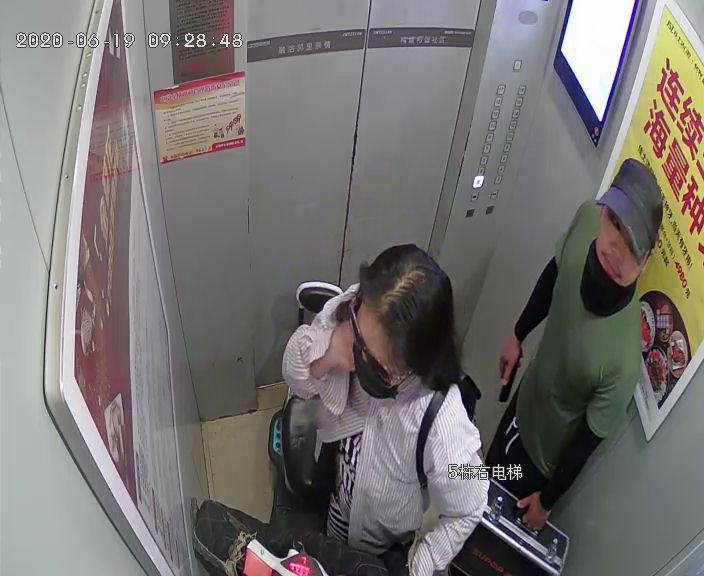Electric-bicycle: (205, 278, 344, 575)
